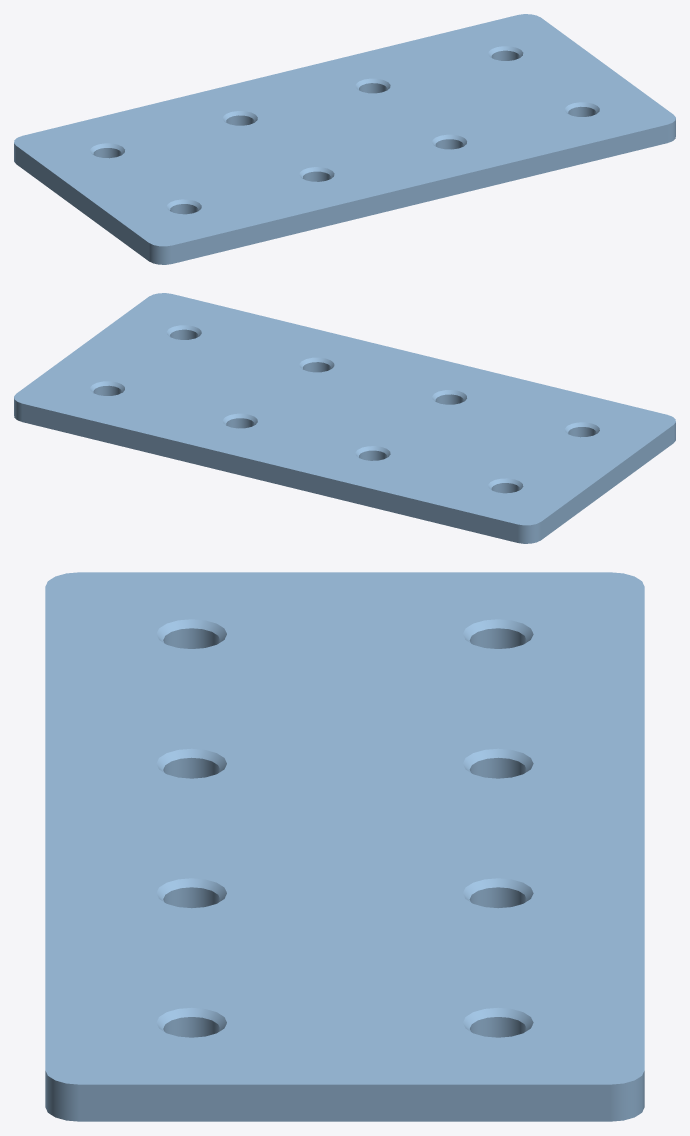
3 views of the same model, one above another, from view 1: azimuth 30°, elevation 25°; view 2: azimuth 150°, elevation 25°; view 3: azimuth 270°, elevation 25° (orthographic). The views are drawn at different scales.
Parts seen in each view (by area): view 1: mesh2381, mesh2386, mesh2389, mesh2385; view 2: mesh2381, mesh2388, mesh2389, mesh2384; view 3: mesh2381, mesh2387, mesh2382, mesh2383, mesh2400, mesh2403, mesh2378, mesh2397, mesh2391, mesh2394, mesh2406, mesh2410.
Boxes of the visible parts, box(x1,y1,x2,y2) form: mesh2381: box(14, 14, 675, 246); mesh2386: box(172, 124, 667, 263); mesh2389: box(16, 146, 148, 260); mesh2385: box(149, 243, 172, 264); mesh2381: box(14, 293, 675, 525); mesh2388: box(22, 403, 517, 542); mesh2389: box(541, 425, 673, 539); mesh2384: box(517, 522, 540, 543); mesh2381: box(45, 572, 644, 1084); mesh2387: box(79, 1084, 610, 1121); mesh2382: box(45, 1071, 79, 1121); mesh2383: box(610, 1071, 644, 1121); mesh2400: box(469, 887, 526, 908); mesh2403: box(163, 887, 220, 908); mesh2378: box(469, 757, 526, 778); mesh2397: box(163, 757, 220, 778); mesh2391: box(469, 628, 526, 648); mesh2394: box(163, 628, 220, 648); mesh2406: box(163, 1017, 219, 1037); mesh2410: box(470, 1017, 526, 1037).
Bounding box in the file's own units: 0.178 × 0.006 × 0.088.
